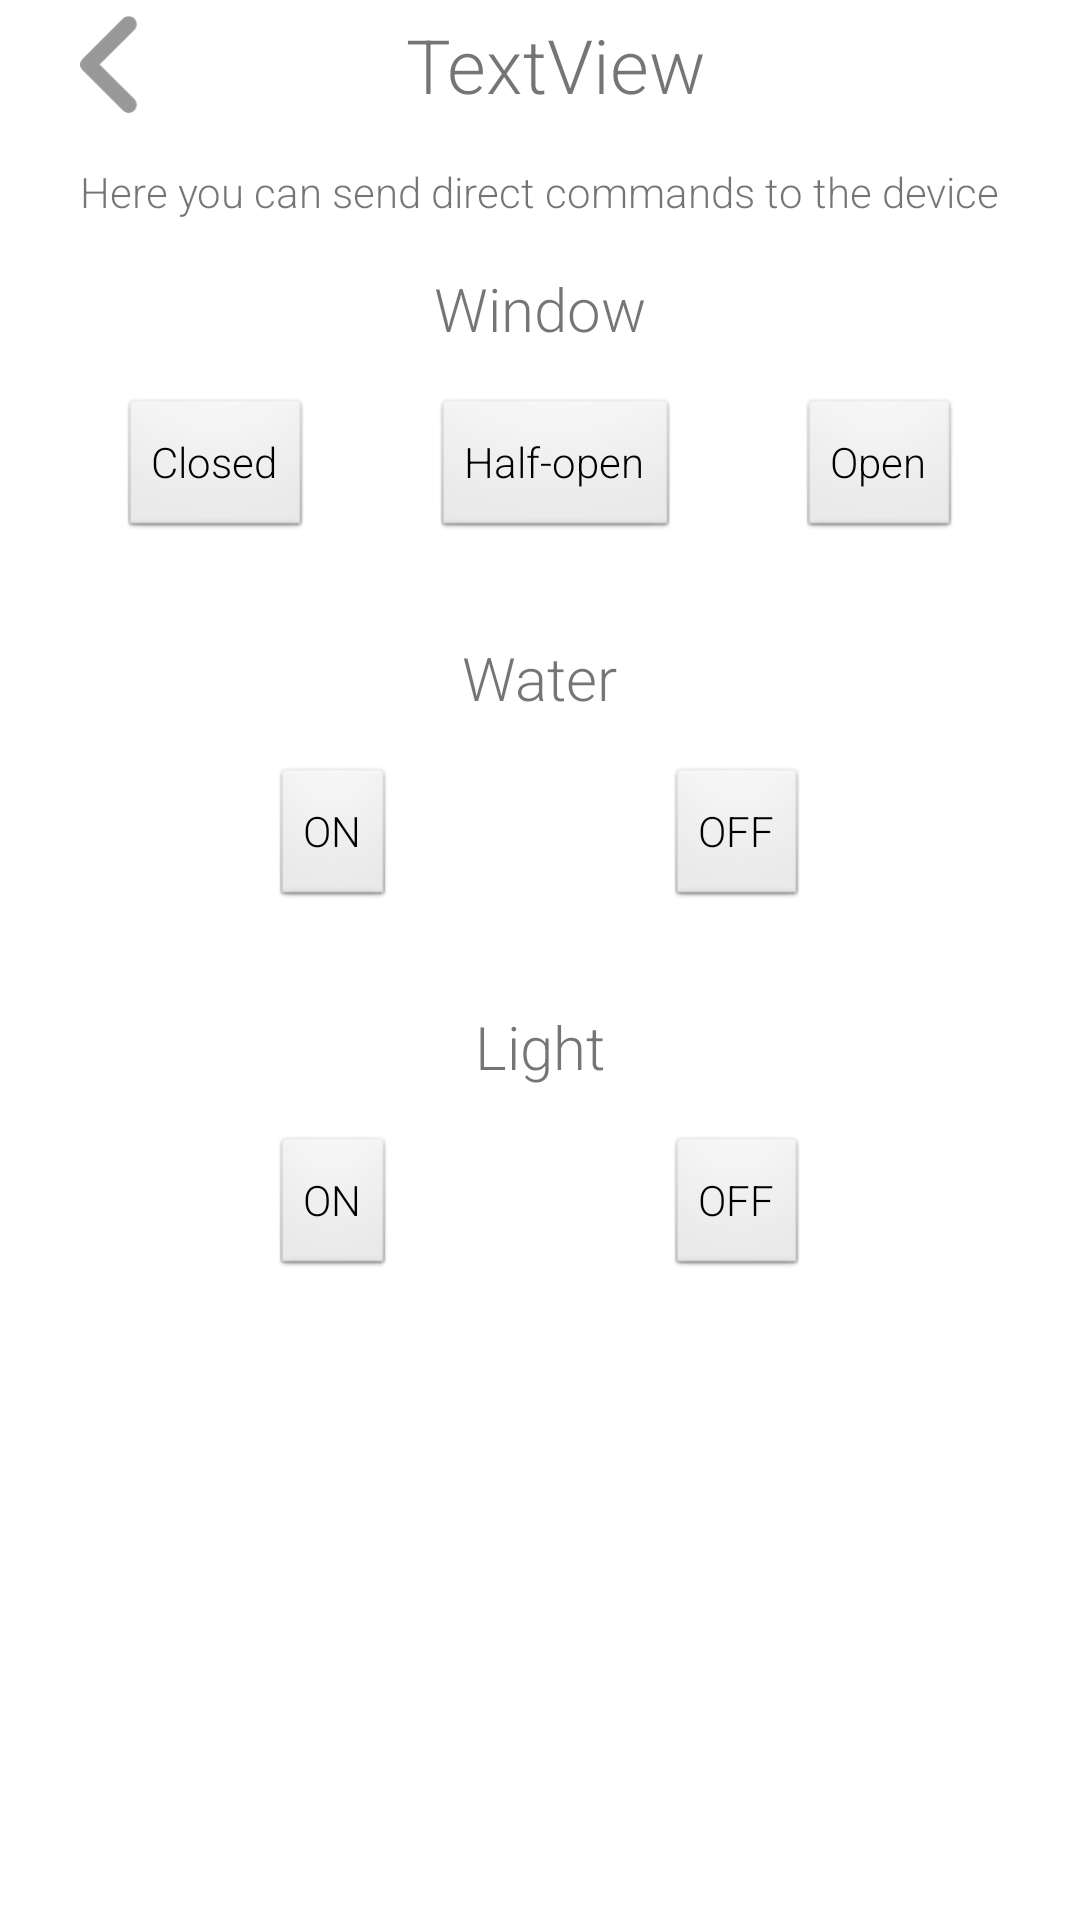

Where to tap for icons on this 1080px x 1920px app screen, as point (x, y):
angle left: point (108, 64)
